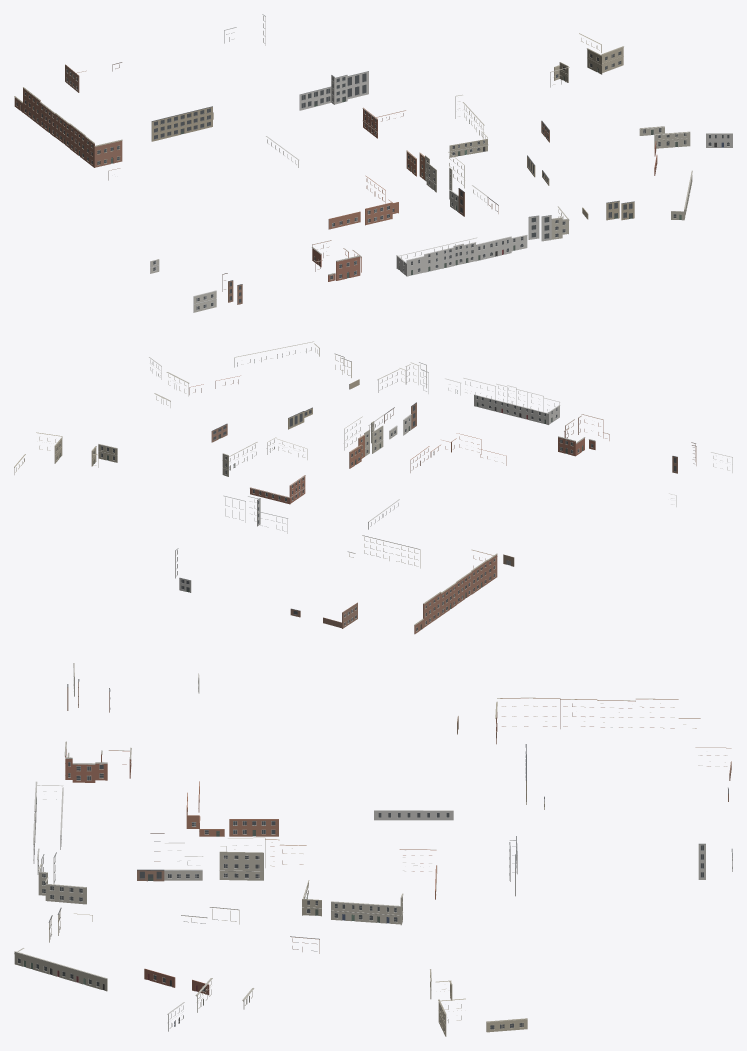
The picture shows the model from 3 angles, top to bottom: view 1: azimuth 30°, elevation 25°; view 2: azimuth 150°, elevation 25°; view 3: azimuth 270°, elevation 25°; orthographic projection. The views are drawn at different scales.
Visible parts, largest first — view 1: f:way/26987100, f:way/161910754, f:way/26987102, f:way/26987101, f:way/119612808, f:way/206376753, f:way/173047298, f:relation/13710410, f:way/193487649, f:way/161910750, f:way/161911277, f:way/161913144; view 2: f:way/26987100, f:way/161910754, f:way/173047298, f:way/161911275, f:way/26987102, f:way/161913144; view 3: f:way/161911279, f:way/161913144, f:way/192651927, f:way/173047298, f:way/161910751, f:way/161913143, f:way/119609784, f:way/119612808, f:way/26987100.
Boxes of the visible parts, x1=… form: f:way/26987100: x1=14, y1=87, x2=122, y2=167; f:way/161910754: x1=396, y1=235, x2=527, y2=276; f:way/26987102: x1=224, y1=14, x2=368, y2=110; f:way/26987101: x1=151, y1=106, x2=213, y2=141; f:way/119612808: x1=554, y1=33, x2=623, y2=82; f:way/206376753: x1=328, y1=199, x2=398, y2=229; f:way/173047298: x1=312, y1=240, x2=361, y2=281; f:relation/13710410: x1=639, y1=126, x2=690, y2=148; f:way/193487649: x1=528, y1=215, x2=551, y2=241; f:way/161910750: x1=582, y1=200, x2=634, y2=220; f:way/161911277: x1=449, y1=131, x2=488, y2=157; f:way/161913144: x1=425, y1=152, x2=464, y2=192; f:way/26987100: x1=414, y1=549, x2=497, y2=634; f:way/161910754: x1=445, y1=378, x2=560, y2=424; f:way/173047298: x1=558, y1=414, x2=609, y2=456; f:way/161911275: x1=250, y1=475, x2=305, y2=504; f:way/26987102: x1=175, y1=495, x2=287, y2=592; f:way/161913144: x1=344, y1=416, x2=383, y2=456; f:way/161911279: x1=331, y1=893, x2=403, y2=925; f:way/161913144: x1=219, y1=837, x2=265, y2=880; f:way/192651927: x1=14, y1=948, x2=107, y2=991; f:way/173047298: x1=64, y1=741, x2=131, y2=782; f:way/161910751: x1=38, y1=864, x2=86, y2=904; f:way/161913143: x1=229, y1=819, x2=278, y2=836; f:way/119609784: x1=374, y1=810, x2=453, y2=820; f:way/119612808: x1=436, y1=980, x2=527, y2=1036; f:way/26987100: x1=495, y1=697, x2=700, y2=744.
Size of the model in its own units: 257 by 15.24 by 226.
